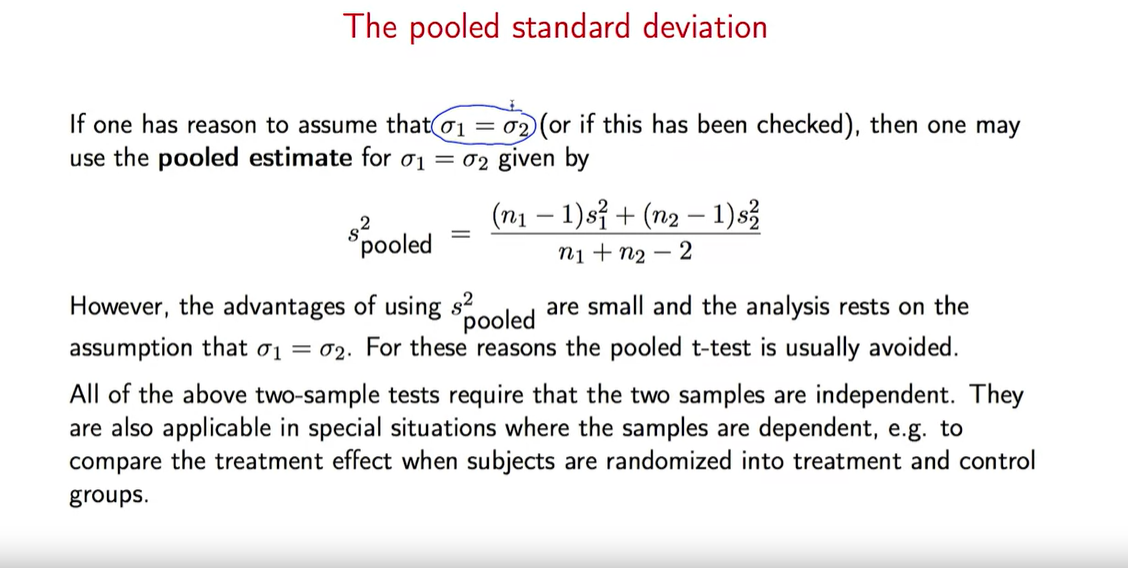equation: (331, 198, 774, 265)
text: (63, 381, 1043, 513), (58, 291, 974, 369), (59, 105, 1022, 174), (337, 5, 775, 45)
